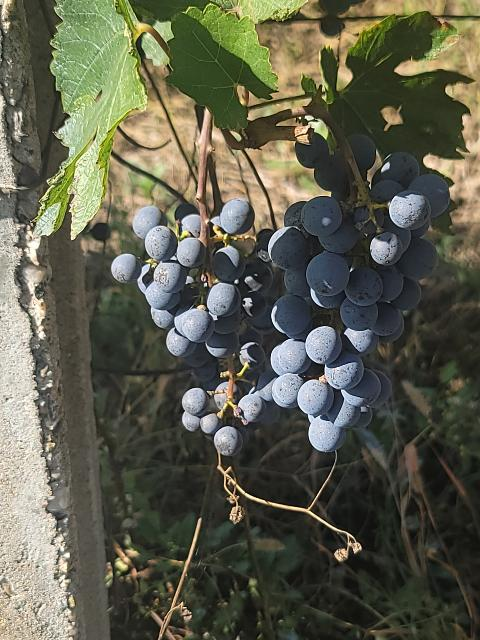grapes: (270, 135, 450, 452), (111, 200, 272, 456)
